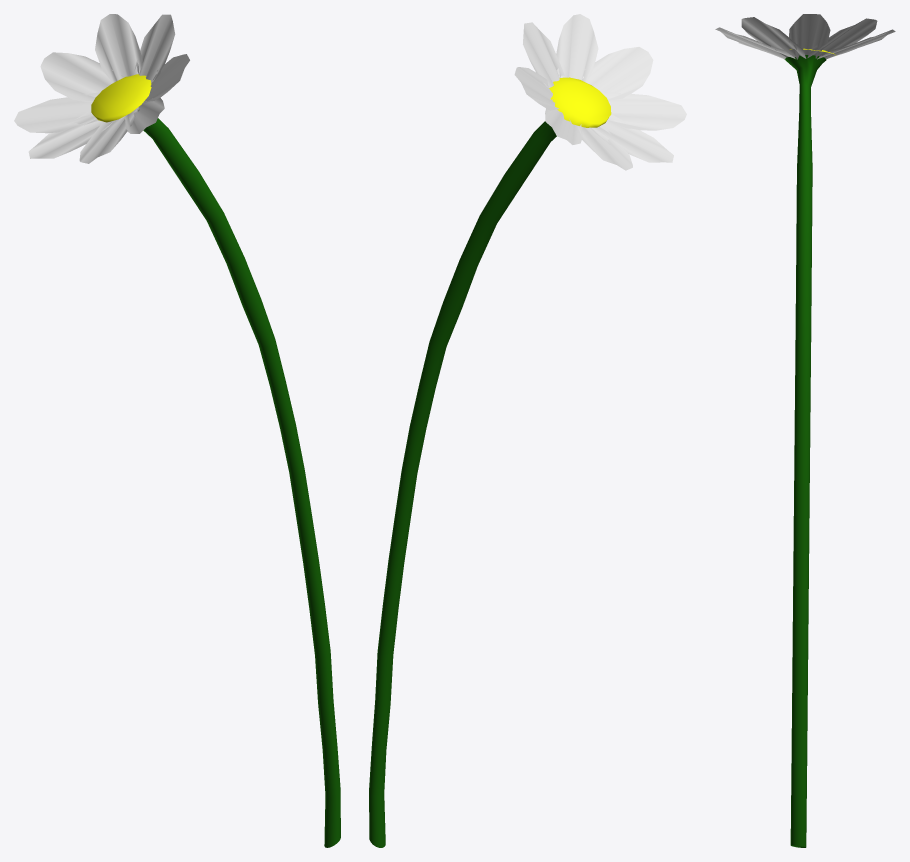
The model's file is flower1.fbx.
3 renders of one model, left to right at view 1: azimuth 30°, elevation 25°; view 2: azimuth 150°, elevation 25°; view 3: azimuth 270°, elevation 25°, orthographic. The views are drawn at different scales.
Visible parts, largest first — view 1: FlowerWhite_LOD0; view 2: FlowerWhite_LOD0; view 3: FlowerWhite_LOD0.
Boxes of the visible parts, box(x1,y1,x2,y2) form: FlowerWhite_LOD0: box(14, 14, 340, 847); FlowerWhite_LOD0: box(369, 14, 686, 847); FlowerWhite_LOD0: box(715, 14, 895, 847).
Size of what is drawn, in the model's own units: 79.05 by 213 by 45.48.
